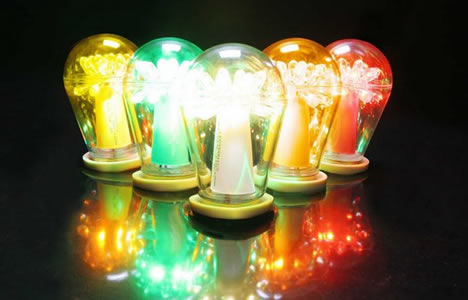Light_bulb: (177, 41, 284, 233), (121, 33, 208, 196), (262, 31, 338, 201), (60, 31, 144, 177), (324, 34, 394, 178)
